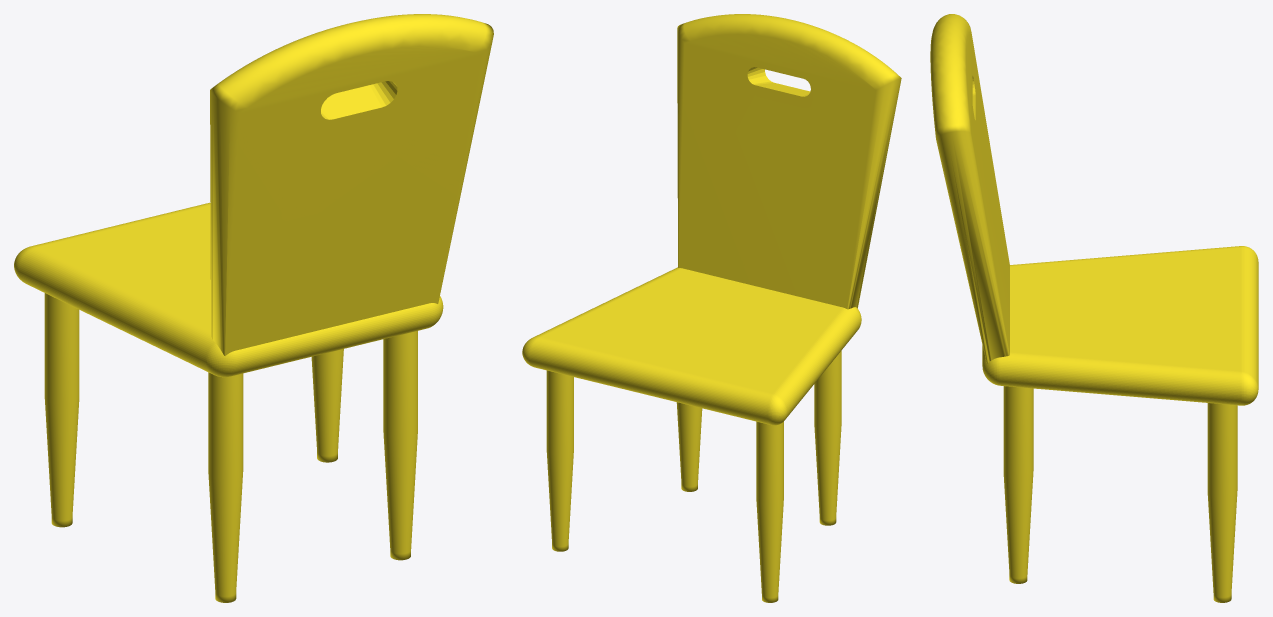
The model's file is openscad_miniature-chair.glb.
The picture shows the model from 3 angles, left to right: view 1: azimuth 30°, elevation 25°; view 2: azimuth 150°, elevation 25°; view 3: azimuth 270°, elevation 25°; orthographic projection. The views are drawn at different scales.
Visible parts, largest first — view 1: object; view 2: object; view 3: object.
Part boxes in pixels (left/top/right/bottom): object: left=14, top=14, right=493, bottom=602; object: left=522, top=14, right=901, bottom=602; object: left=930, top=14, right=1258, bottom=602.
Size of the model in its own units: 54.97 by 92.23 by 54.67.
